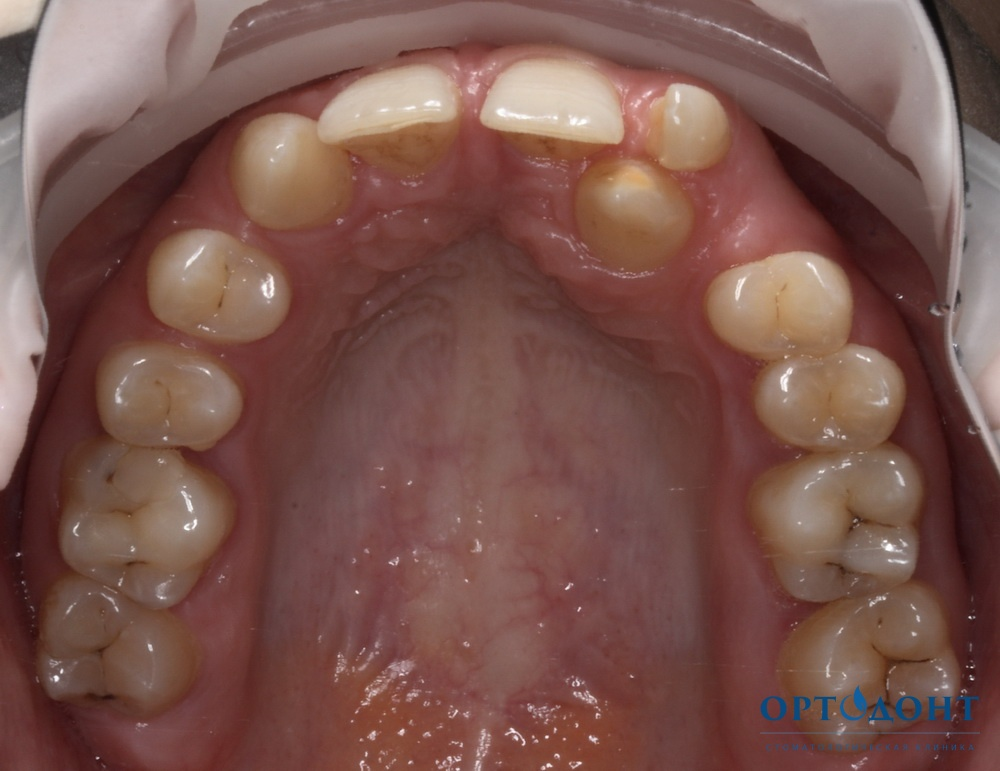UL1BC_healthy: (710, 245, 846, 365)
UL1M_decay: (750, 449, 927, 607)
UL2BC_healthy: (758, 343, 912, 458)
UL2M_decay: (784, 585, 952, 681)
ULCI_healthy: (478, 60, 627, 155)
ULLI_healthy: (571, 166, 685, 270)
UR1BC_healthy: (97, 342, 242, 454)
UR1M_decay: (34, 575, 202, 713)
UR2BC_decay: (56, 446, 238, 608)
URCI_healthy: (318, 60, 471, 161)
URC_decay: (145, 225, 294, 339)
URLI_healthy: (229, 110, 355, 230)
